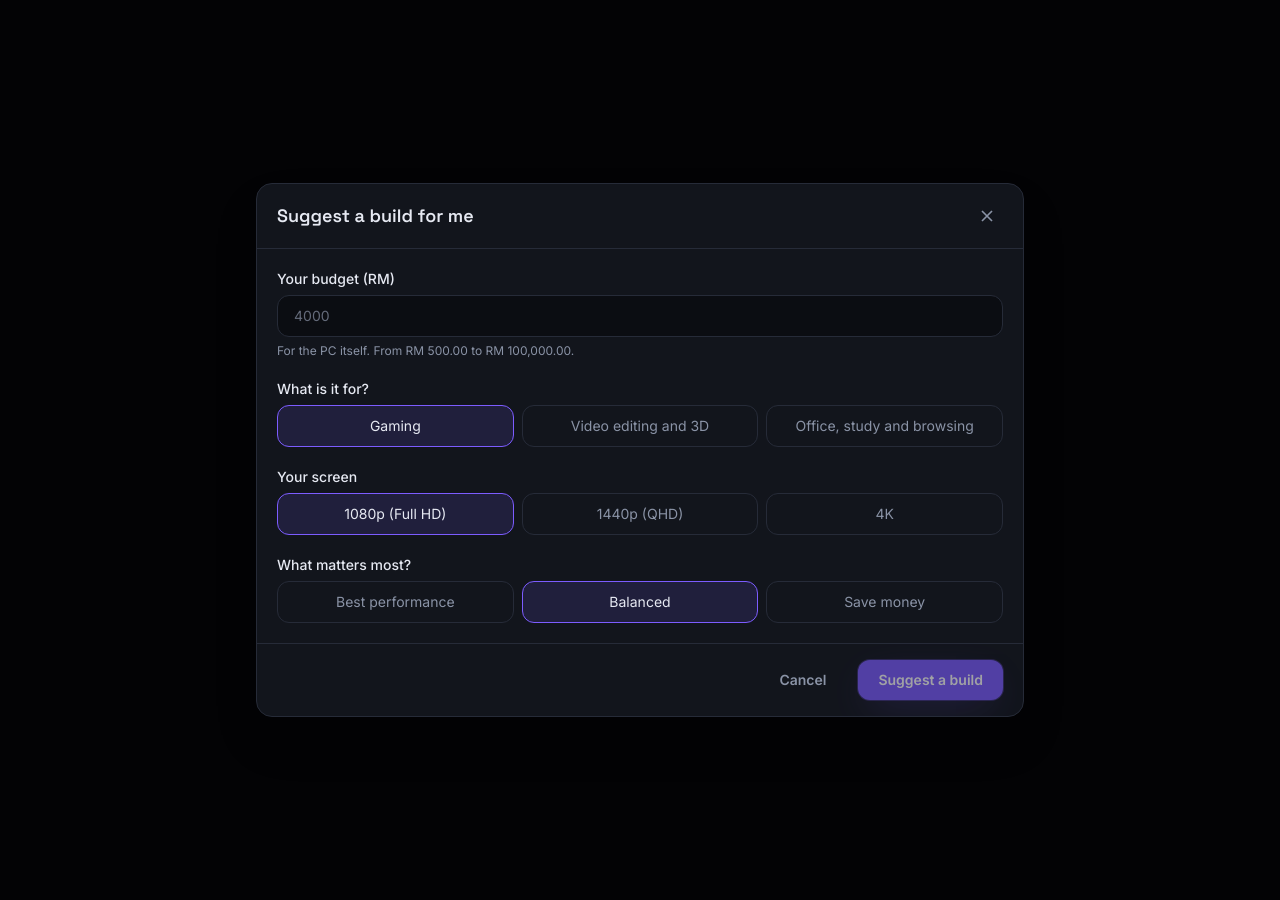
Test case: the brief › shows the server's reason under the budget when it is too low
The width and height of the screenshot is (1280, 900).
Type "1000" into the field with placeholder "4000". click: [640, 316]
box: left=277, top=295, right=1003, bottom=337
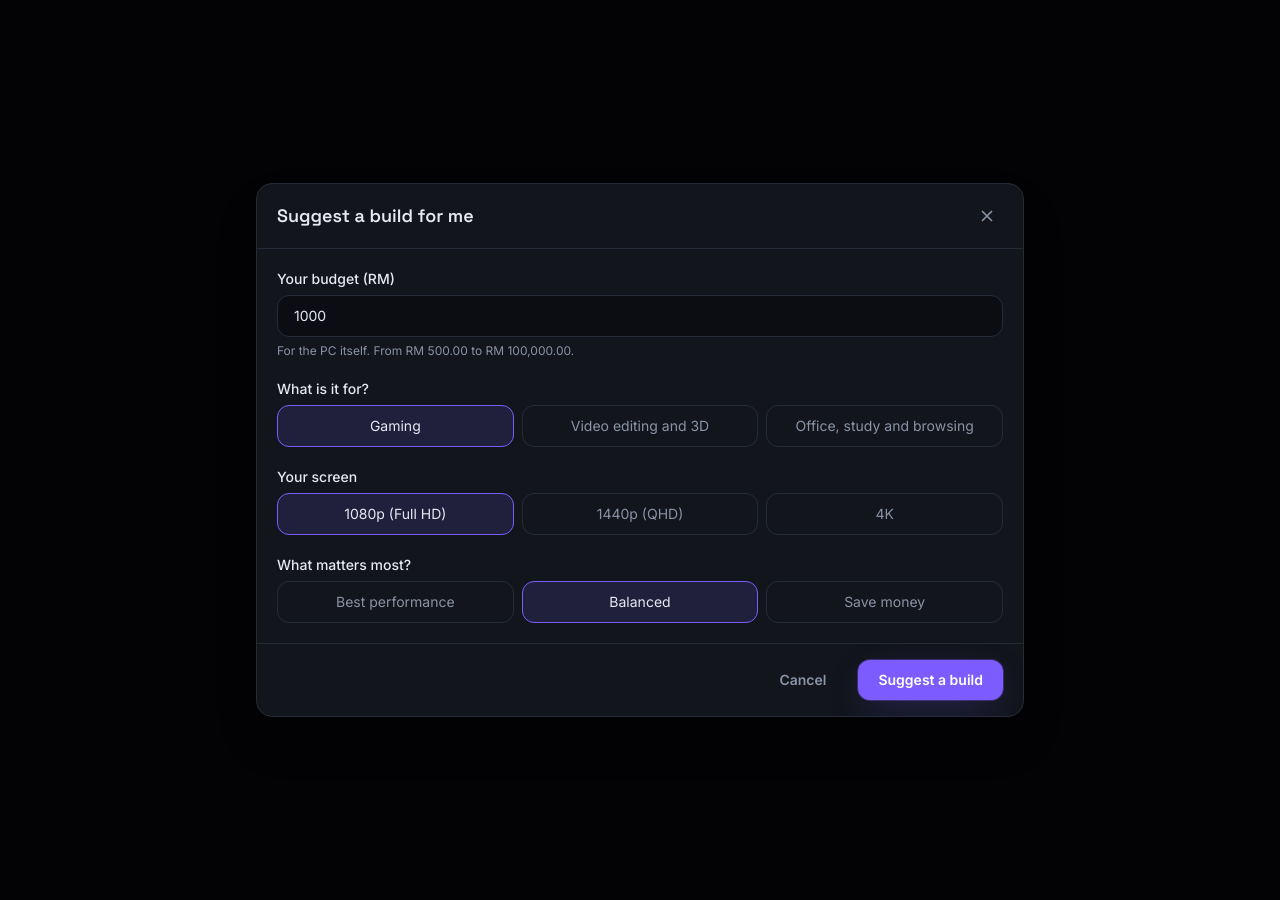
Submit the form with id "recommend-form", box left=257, top=249, right=1023, bottom=643
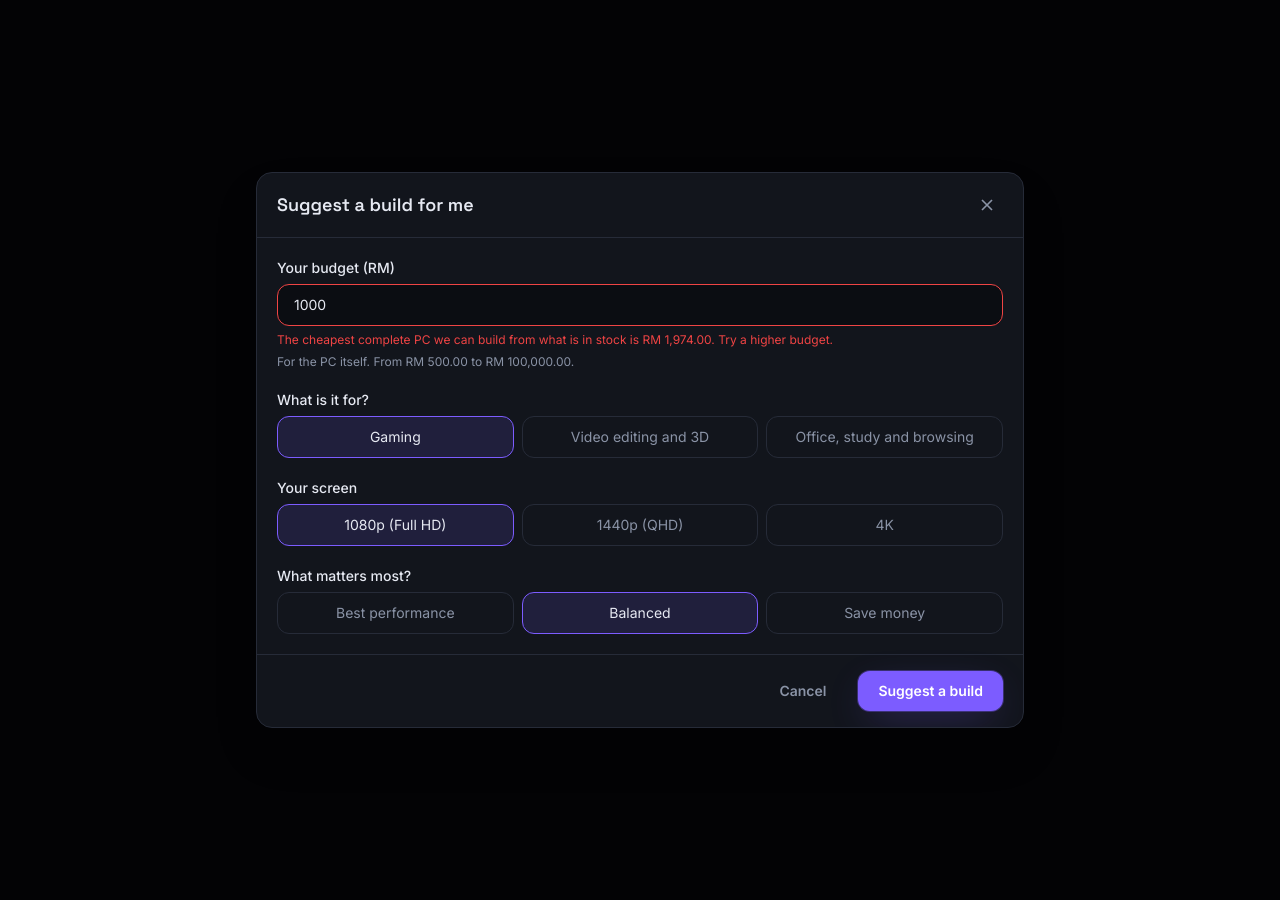
Expected: the text "The cheapest complete PC we can build from what is in stock is RM 1,974.00." is shown, left=277, top=332, right=833, bottom=347
